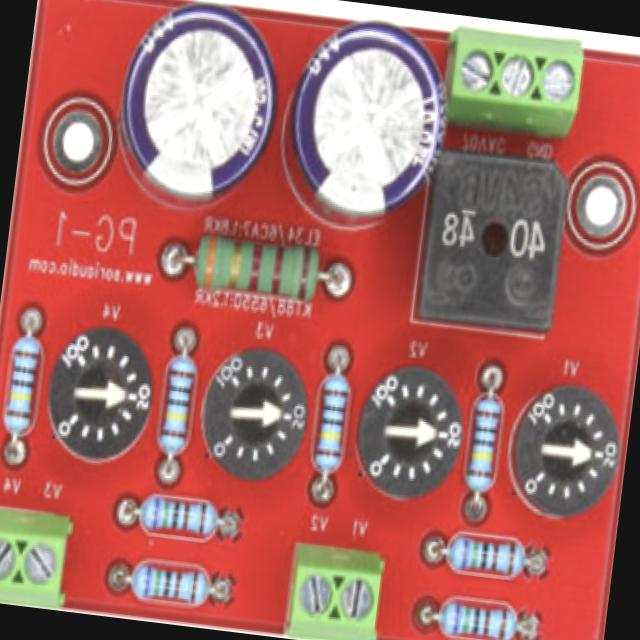Electrolytic capacitor: (105, 0, 283, 216), (274, 22, 458, 230)
resistor: (180, 230, 329, 308), (144, 345, 199, 485), (303, 362, 356, 484), (459, 382, 515, 494), (433, 524, 536, 580), (128, 484, 218, 547), (117, 555, 222, 609), (0, 319, 42, 445), (431, 591, 532, 640)
